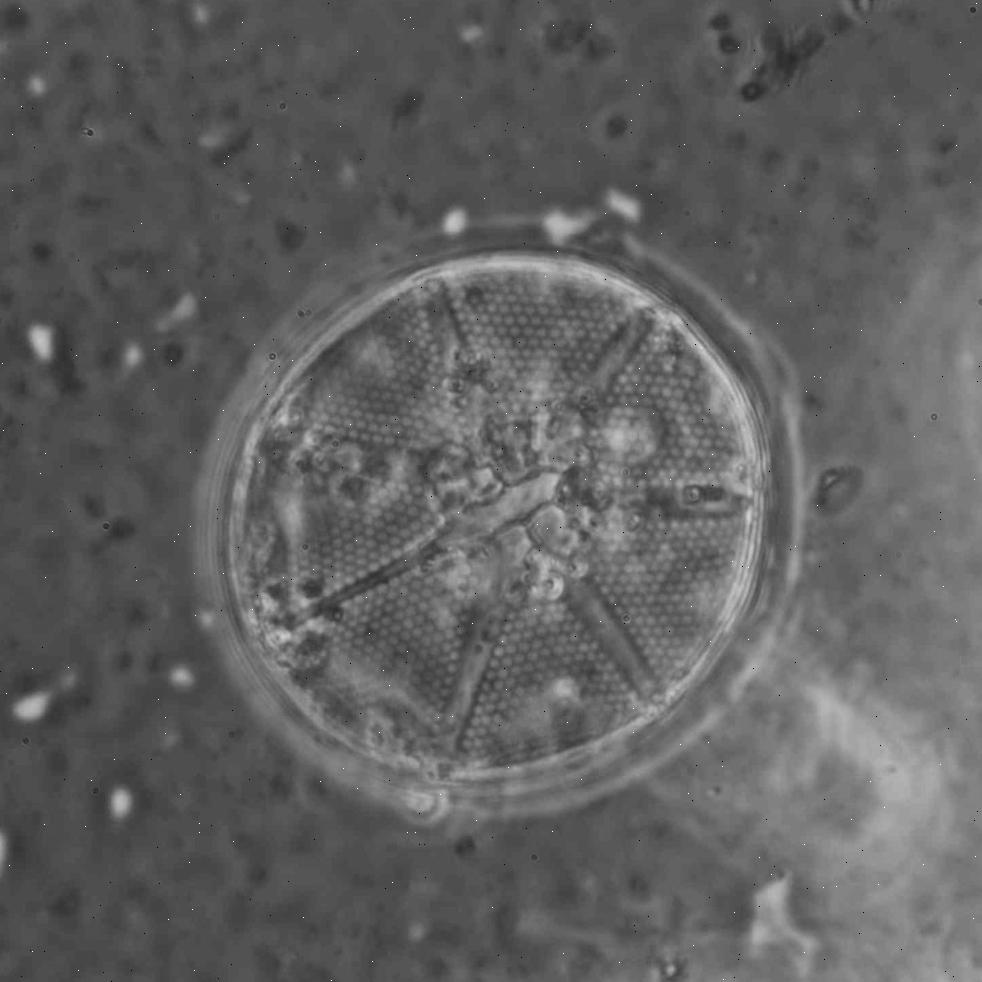asteromphalus_hyalinus: (232, 262, 760, 782)
